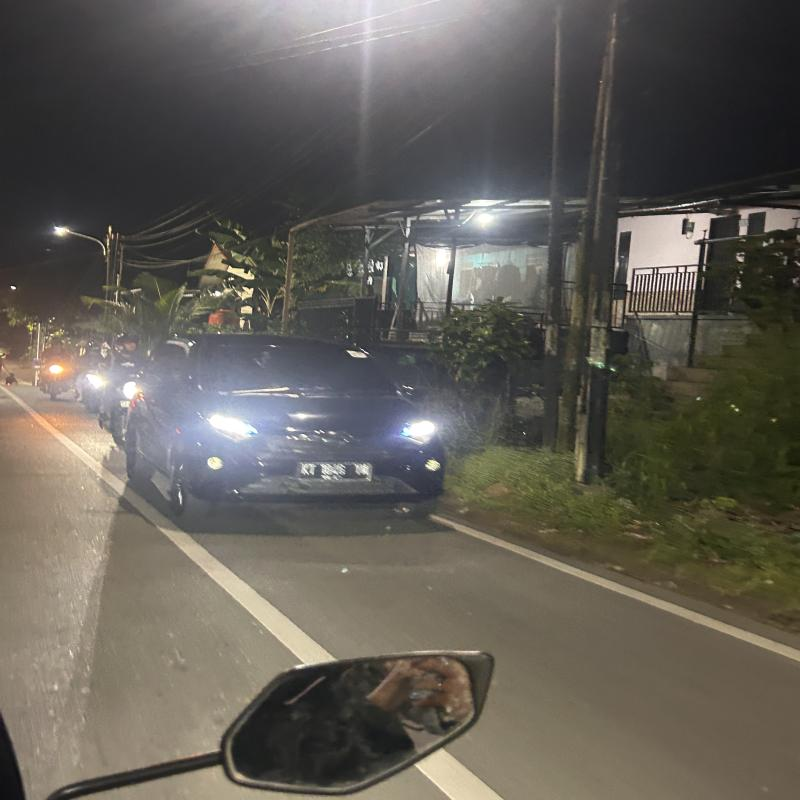license plate on a car: (291, 457, 383, 485)
